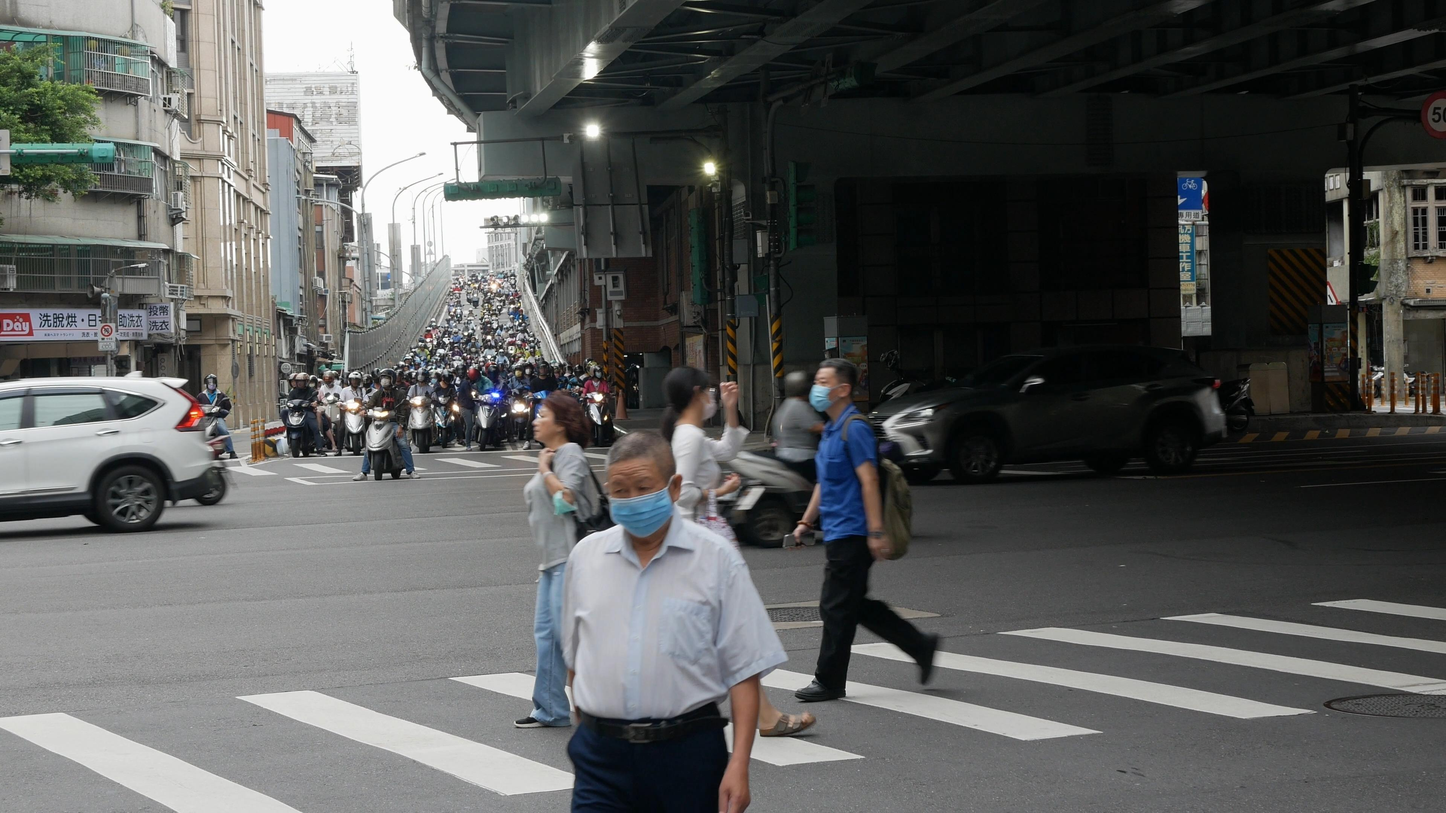driver: (726, 370, 825, 548), (352, 369, 421, 481), (279, 372, 327, 458), (522, 360, 565, 450), (196, 374, 238, 460), (400, 367, 441, 454), (472, 362, 512, 451), (577, 364, 618, 448), (333, 371, 372, 456), (433, 370, 467, 448)
helmet: (784, 371, 811, 398), (378, 368, 397, 389), (295, 372, 310, 389), (203, 373, 217, 391), (322, 370, 335, 389), (467, 368, 481, 385), (348, 371, 362, 388), (415, 367, 429, 383), (487, 365, 500, 382), (536, 360, 549, 376), (441, 370, 454, 385), (590, 365, 603, 379), (485, 362, 497, 376), (362, 374, 373, 389), (288, 373, 298, 388), (309, 375, 318, 388)
no-helmet: (603, 429, 683, 539), (662, 366, 719, 420), (532, 392, 591, 444), (808, 358, 857, 412)
